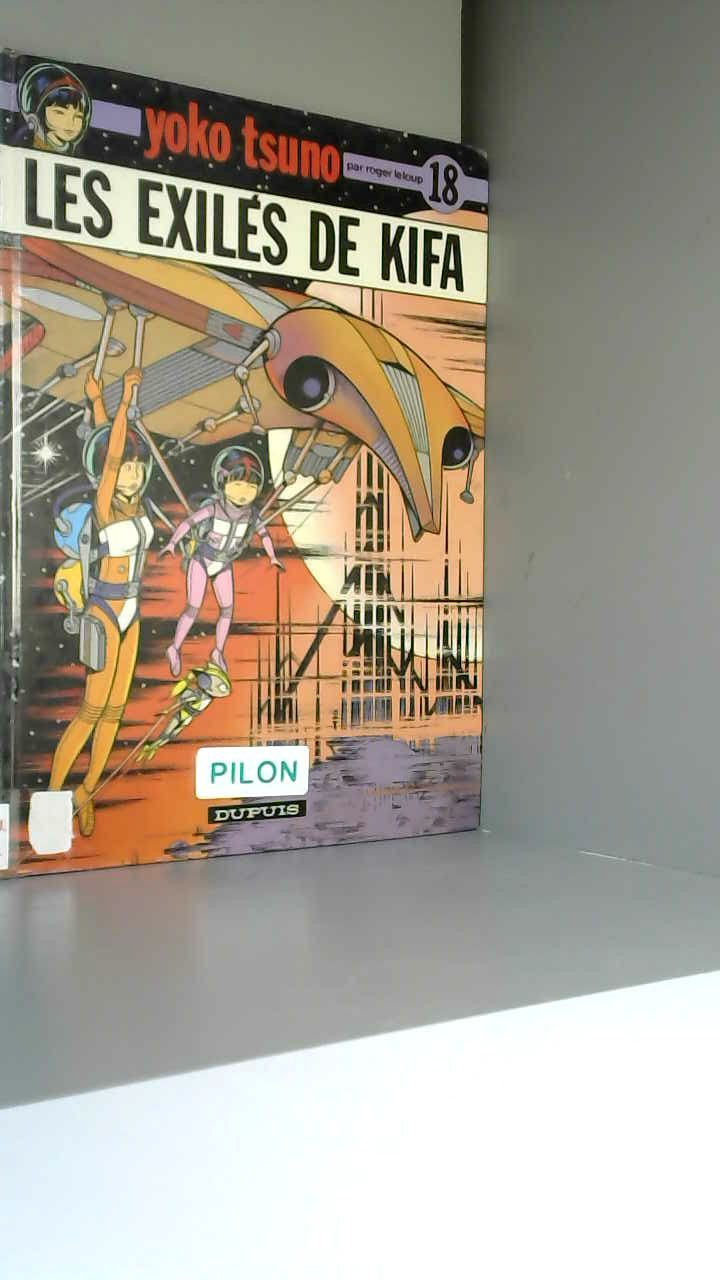book: (6, 34, 530, 908)
